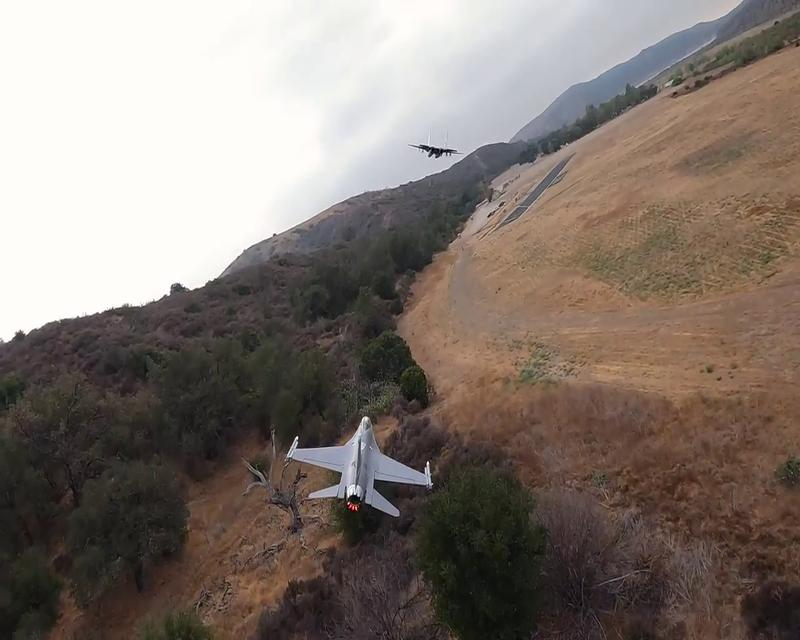UAV: (283, 414, 434, 519), (408, 128, 466, 160)
